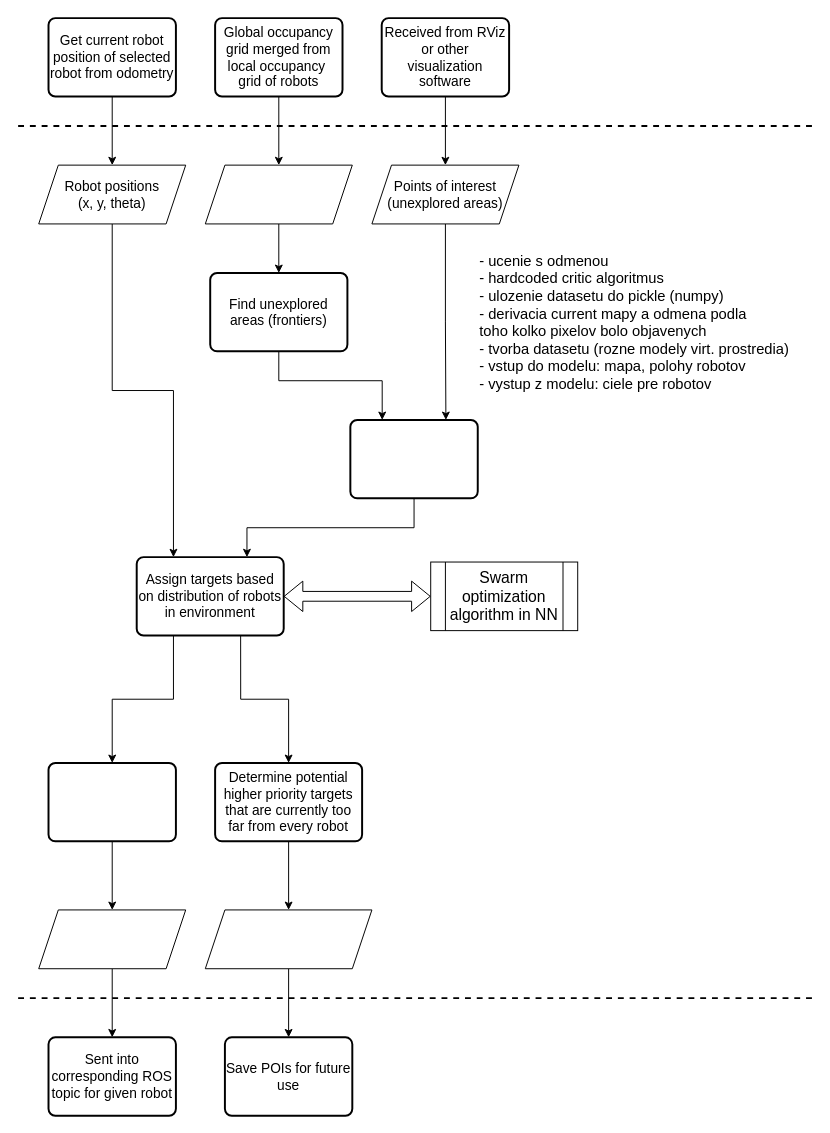
Some shapes in this 830 by 1133 pixel diagram are drawn without their labels. Here are the shapes that lost their labels. From the top down, the centre of each, then its label:
(278,194): Global occupancy grid
(413,458): Factor in occasional POIs (areas with higher priority)
(111,801): Transform target into suitable format
(112,939): Next goal position for robot (x, y)
(288,939): Mapping priorities for unexplored areas
